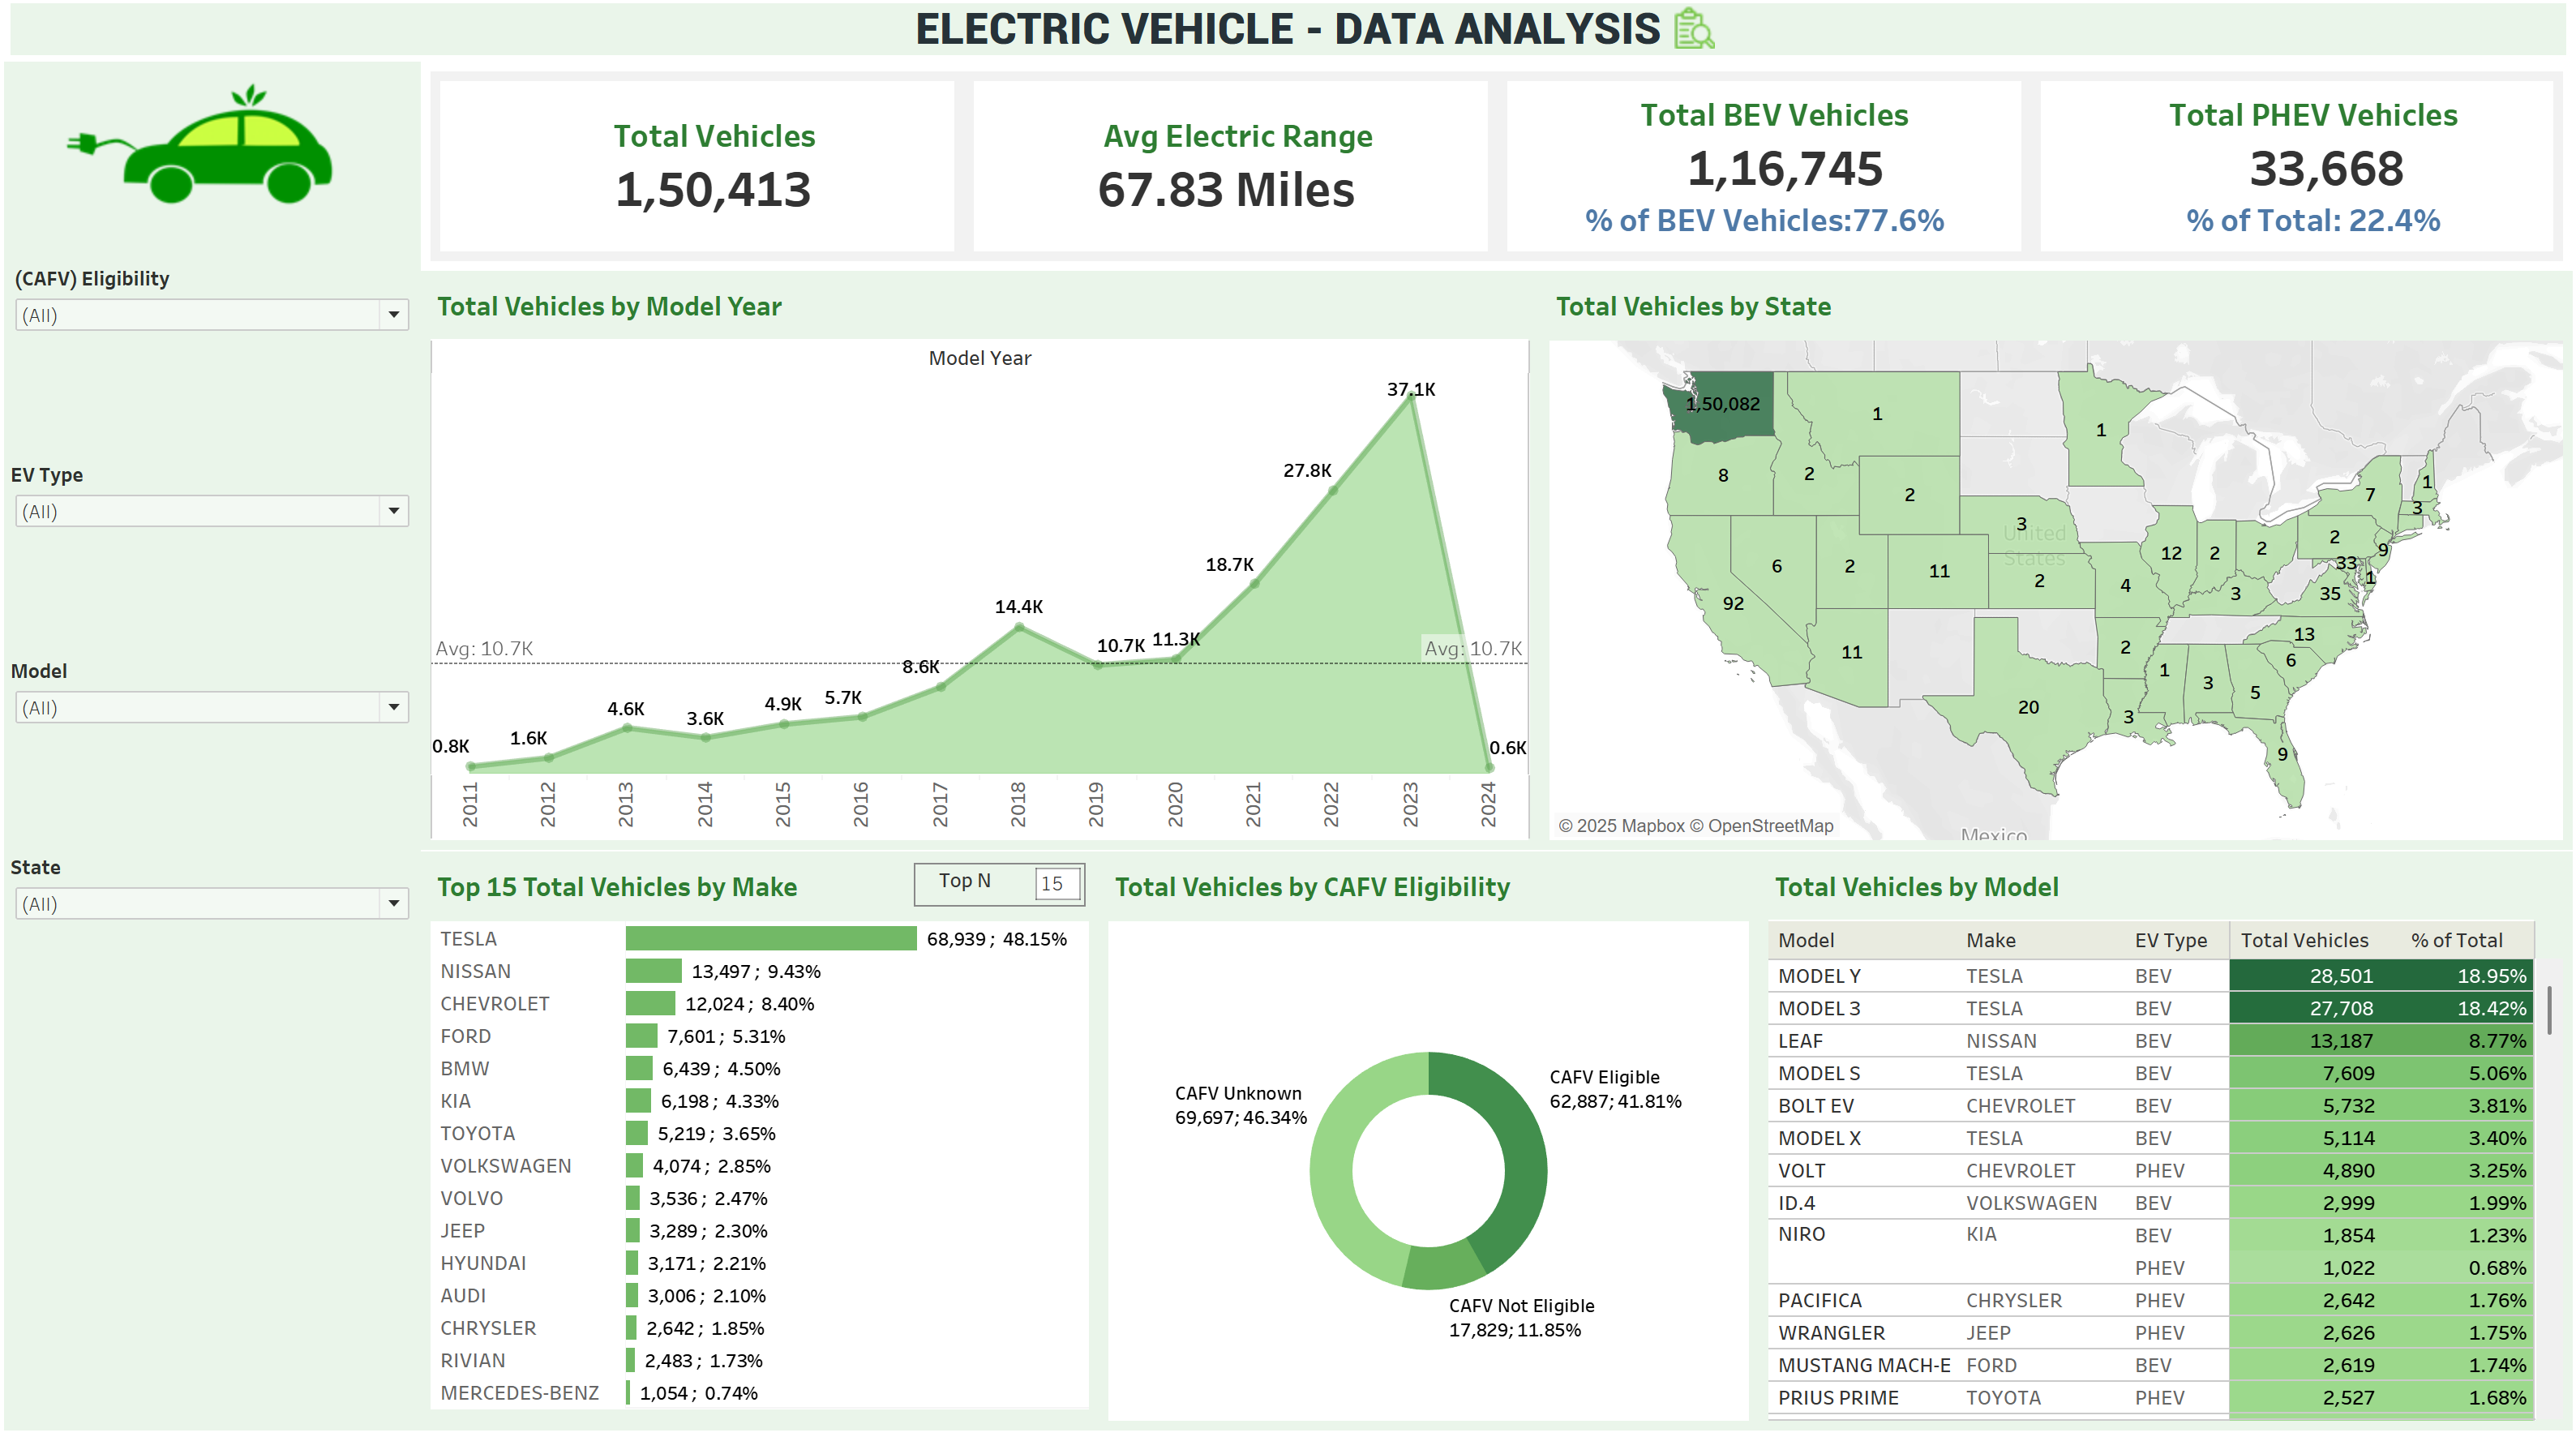

Layout of this report page (visuals, bound fields, positions):
{"tool":"tableau","page":{"name":"EV Dashboard","canvas":[1600,900],"ordinal":0},"visuals":[{"type":"title","box":[8,8,1584,40]},{"type":"image","param":"Image/pngwing.com (1) 1.png","box":[1034,14,33,26]},{"type":"image","param":"Image/pngwing.com (1).png","box":[8,48,257,121]},{"type":"worksheet","title":"Total Vehicles","mark":"Automatic","box":[271,54,329,117]},{"type":"worksheet","title":"Avg Electric Range","mark":"Automatic","box":[600,54,329,117]},{"type":"worksheet","title":"Total BEV Vehicles","mark":"Automatic","box":[929,54,329,117]},{"type":"worksheet","title":"Total PHEV Vehicles","mark":"Automatic","box":[1258,54,328,117]},{"type":"filter","title":"Total Vehicles by State","param":"[federated.15uawsw0z64d5712ibwyr1eus0ba].[none:Clean Alternative Fuel Vehicle (C","box":[8,169,257,121]},{"type":"worksheet","title":"Total Vehicles by Model Year","mark":"Area","rows":["Calculation_1641562130756796416","Calculation_1641562130756796416"],"cols":["Model Year"],"box":[265,177,690,357.5]},{"type":"worksheet","title":"Total Vehicles by State","mark":"Multipolygon","box":[955,177,637,357.5]},{"type":"filter","title":"Total Vehicles by State","param":"[federated.15uawsw0z64d5712ibwyr1eus0ba].[none:Electric Vehicle Type:nk]","box":[8,290,257,121]},{"type":"filter","title":"Total Vehicles by State","param":"[federated.15uawsw0z64d5712ibwyr1eus0ba].[none:Model:nk]","box":[8,411,257,121]},{"type":"filter","title":"Total Vehicles by State","param":"[federated.15uawsw0z64d5712ibwyr1eus0ba].[none:State:nk]","box":[8,532,257,120]},{"type":"worksheet","title":"Top 15 Total Vehicles by Make","mark":"Automatic","rows":["Make"],"cols":["Calculation_1641562130756796416"],"box":[265,534.5,418,357.5]},{"type":"worksheet","title":"Total Vehicles by CAFV Eligibility","mark":"Pie","rows":["Calculation_1641562130777178119","Calculation_1641562130777178119"],"box":[683,534.5,407,357.5]},{"type":"worksheet","title":"Total Vehicles by Model","mark":"Square","rows":["Model","Make","Electric Vehicle Type"],"box":[1090,534.5,502,357.5]},{"type":"parameter","param":"[Parameters].[Parameter 1]","box":[569,542,106,27]},{"type":"blank","box":[8,652,257,120]},{"type":"blank","box":[8,772,257,120]}]}

Visuals, with their boxes in screenshot pixels (x1, y1, x2, y2), scaled from the page's 1600x900 canvas onto the 2576x1437 screenshot:
title: [13, 13, 2563, 77]
image: [1665, 23, 1718, 64]
image: [13, 77, 426, 270]
"Total Vehicles" worksheet: [436, 86, 966, 273]
"Avg Electric Range" worksheet: [966, 86, 1496, 273]
"Total BEV Vehicles" worksheet: [1496, 86, 2025, 273]
"Total PHEV Vehicles" worksheet: [2025, 86, 2553, 273]
"Total Vehicles by State" filter: [13, 270, 426, 463]
"Total Vehicles by Model Year" worksheet (Area marks): [426, 282, 1537, 853]
"Total Vehicles by State" worksheet (Multipolygon marks): [1537, 282, 2563, 853]
"Total Vehicles by State" filter: [13, 463, 426, 656]
"Total Vehicles by State" filter: [13, 656, 426, 849]
"Total Vehicles by State" filter: [13, 849, 426, 1041]
"Top 15 Total Vehicles by Make" worksheet: [426, 853, 1099, 1424]
"Total Vehicles by CAFV Eligibility" worksheet (Pie marks): [1099, 853, 1755, 1424]
"Total Vehicles by Model" worksheet (Square marks): [1755, 853, 2563, 1424]
parameter: [916, 865, 1087, 908]
blank: [13, 1041, 426, 1233]
blank: [13, 1233, 426, 1424]
